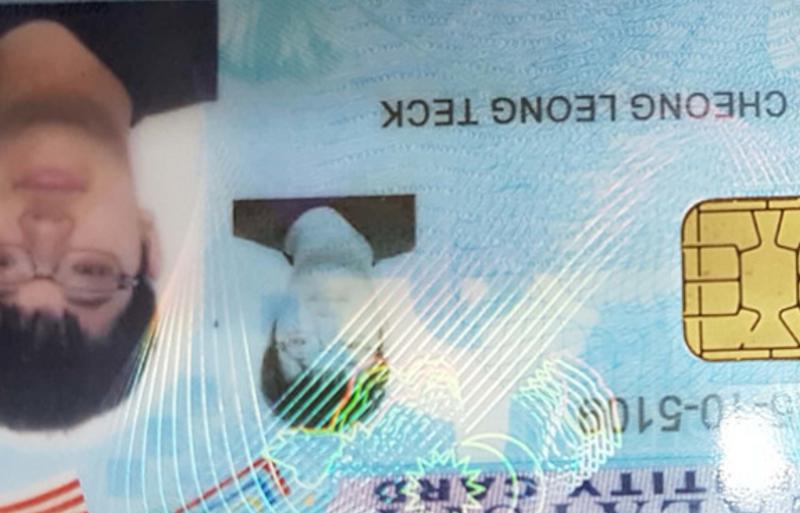hologram: (427, 142, 664, 351)
